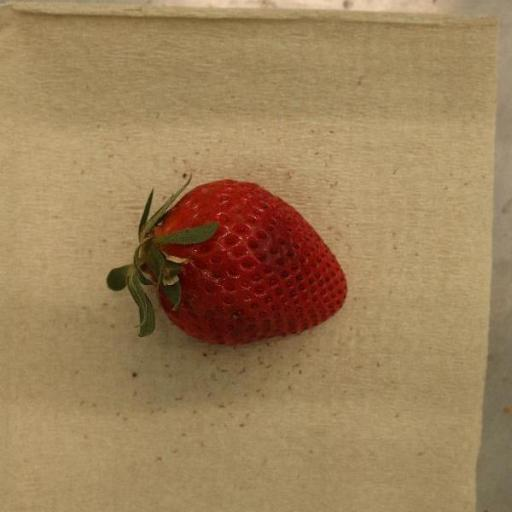Strawberry: (106, 180, 347, 347)
